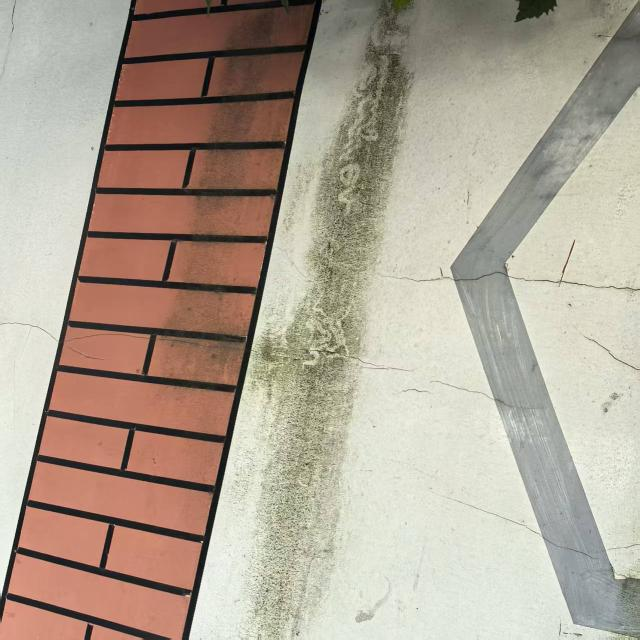crack: (422, 487, 611, 567), (386, 270, 639, 296), (5, 316, 110, 364), (431, 378, 554, 415), (303, 344, 424, 376), (571, 325, 637, 375)
mildew: (223, 4, 421, 634), (146, 12, 289, 401)
